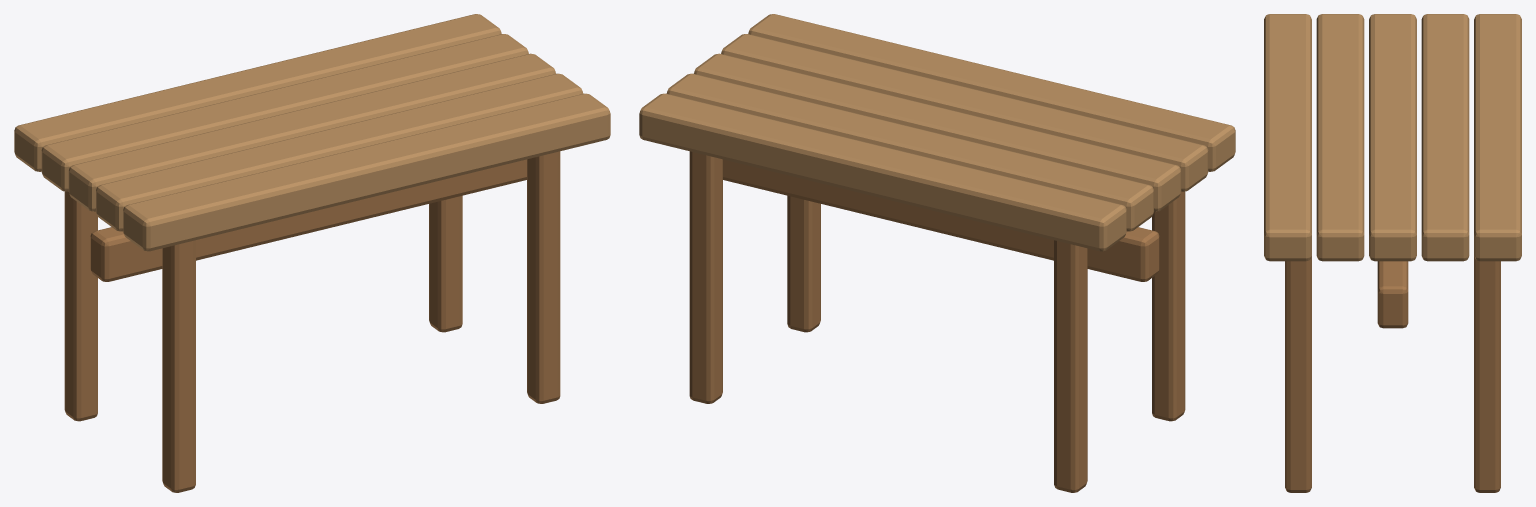
The model's file is SM_CreatorCoupleHouse_FilmingTable.fbx.
3 renders of one model, left to right at view 1: azimuth 30°, elevation 25°; view 2: azimuth 150°, elevation 25°; view 3: azimuth 270°, elevation 25°, orthographic. The views are drawn at different scales.
Visible parts, largest first — view 1: SM_CreatorCoupleHouse_FilmingTable; view 2: SM_CreatorCoupleHouse_FilmingTable; view 3: SM_CreatorCoupleHouse_FilmingTable.
Part boxes in pixels (x1,y1,x2,y2): SM_CreatorCoupleHouse_FilmingTable: (14, 14, 610, 492); SM_CreatorCoupleHouse_FilmingTable: (639, 14, 1235, 492); SM_CreatorCoupleHouse_FilmingTable: (1264, 14, 1521, 492).
Size of what is drawn, in the model's own units: 135 by 66.8 by 80.5.
